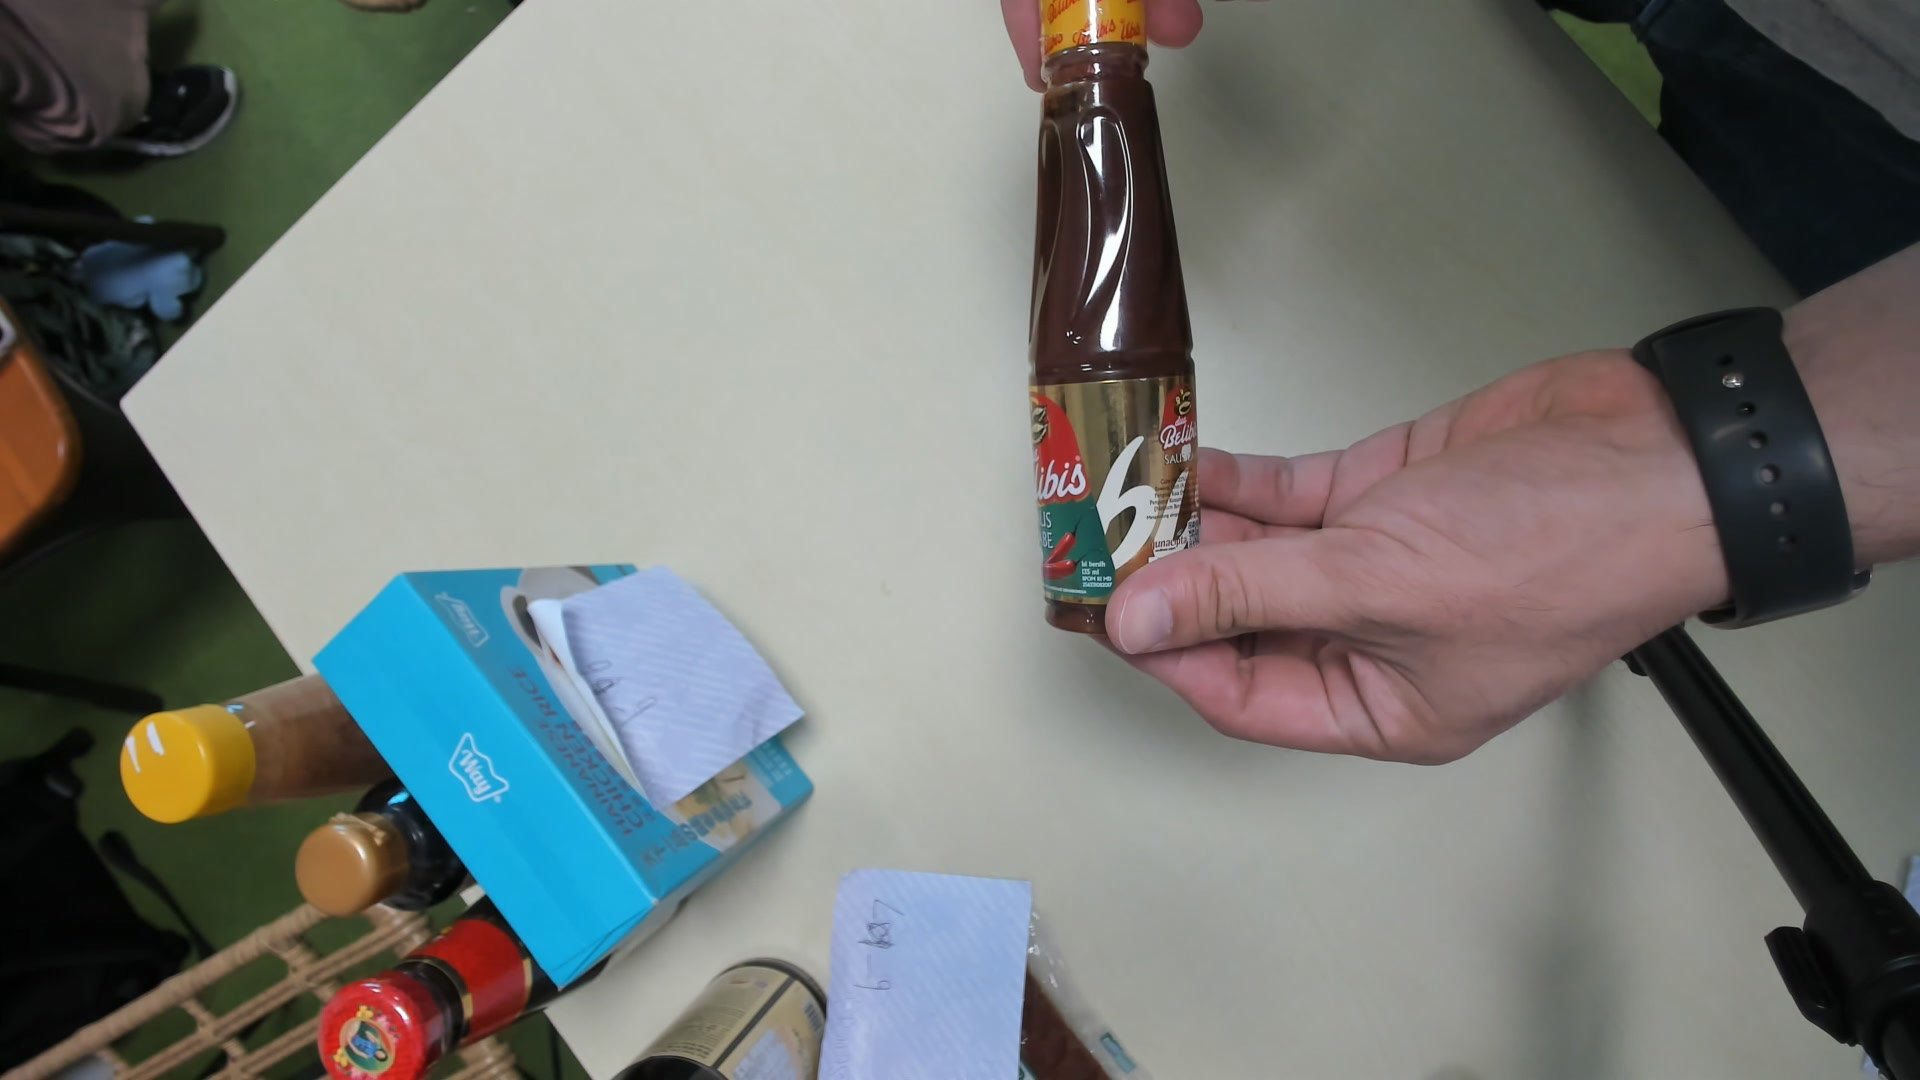KetchupChillSauce_100-199g_Halal_NonHealthy: (1033, 1, 1211, 640)
